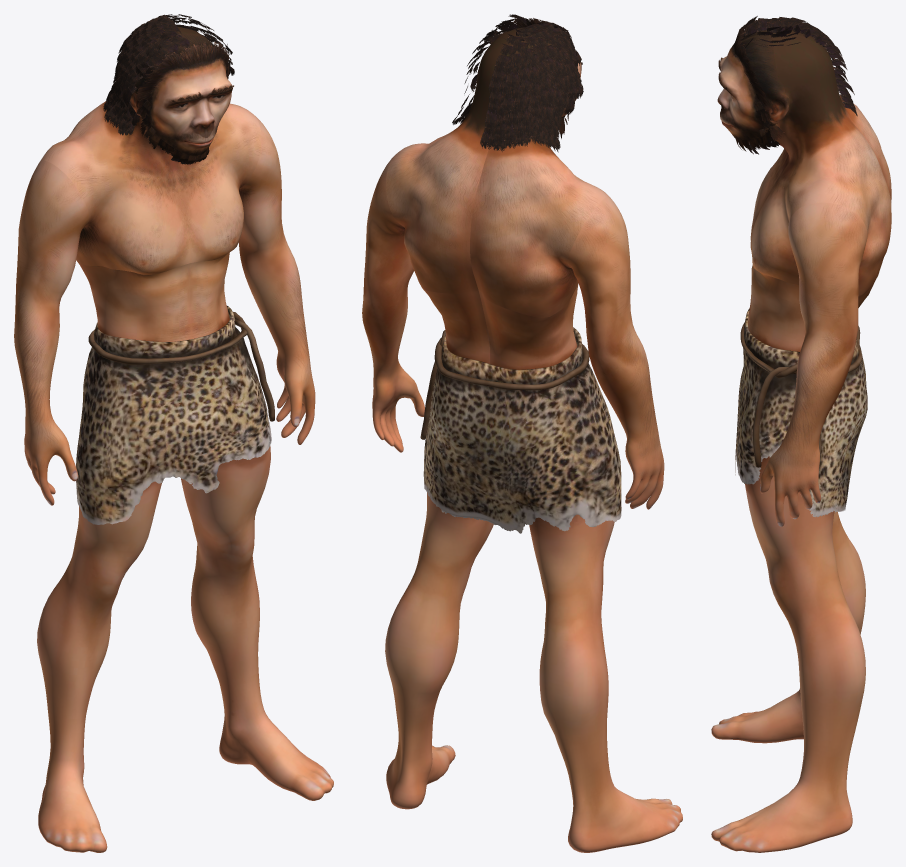
Rendered from zhiliren.obj.
3 renders of one model, left to right at view 1: azimuth 30°, elevation 25°; view 2: azimuth 150°, elevation 25°; view 3: azimuth 270°, elevation 25°, orthographic. The views are drawn at different scales.
Parts seen in each view (by area): view 1: zhiren trousers, zhiren leg1, zhiren leg2, zhiren chest2, zhiren arm3, zhiren arm2, chest1 zhiren, zhiren belly1, zhiren face2, zhiren toufa1, zhiren belly2, zhiren toufa_front2 (+4 smaller); view 2: zhiren trousers, zhiren leg2, zhiren chest2, zhiren leg1, zhiren arm3, chest1 zhiren, zhiren toufa1, zhiren arm2, zhiren belly1, zhiren belly2, zhiren rope, zhiren toufa2; view 3: zhiren leg1, chest1 zhiren, zhiren arm2, zhiren trousers, zhiren leg2, zhiren face1, zhiren belly2, zhiren toufa1, zhiren chest2, zhiren toufa_front1, zhiren rope, zhiren toufa2.
Boxes of the visible parts, x1,y1,x2,y2 form: zhiren trousers: [76, 306, 271, 524]; zhiren leg1: [181, 446, 333, 800]; zhiren leg2: [37, 481, 161, 852]; zhiren chest2: [40, 29, 190, 274]; zhiren arm3: [14, 160, 89, 505]; zhiren arm2: [238, 116, 315, 444]; chest1 zhiren: [172, 26, 261, 262]; zhiren belly1: [76, 260, 191, 341]; zhiren face2: [130, 34, 207, 156]; zhiren toufa1: [103, 14, 190, 135]; zhiren belly2: [189, 252, 229, 338]; zhiren toufa_front2: [136, 44, 201, 164]; zhiren trousers: [423, 327, 621, 533]; zhiren leg2: [529, 514, 682, 852]; zhiren chest2: [470, 35, 608, 317]; zhiren leg1: [385, 492, 493, 809]; zhiren arm3: [567, 196, 664, 509]; chest1 zhiren: [386, 30, 520, 293]; zhiren toufa1: [480, 22, 583, 152]; zhiren arm2: [362, 155, 424, 452]; zhiren belly1: [479, 283, 578, 369]; zhiren belly2: [423, 289, 489, 363]; zhiren rope: [420, 330, 589, 439]; zhiren toufa2: [452, 14, 527, 124]; zhiren leg1: [711, 453, 865, 852]; chest1 zhiren: [750, 33, 891, 295]; zhiren arm2: [760, 202, 867, 526]; zhiren trousers: [735, 308, 867, 517]; zhiren leg2: [711, 511, 865, 743]; zhiren face1: [717, 34, 789, 142]; zhiren belly2: [748, 268, 875, 351]; zhiren toufa1: [744, 16, 857, 116]; zhiren chest2: [750, 30, 891, 240]; zhiren toufa_front1: [718, 32, 784, 154]; zhiren rope: [740, 322, 862, 470]; zhiren toufa2: [744, 26, 800, 48].
Size of the model in its own units: 41.44 by 110 by 23.53.
1 material, 1 textured.
